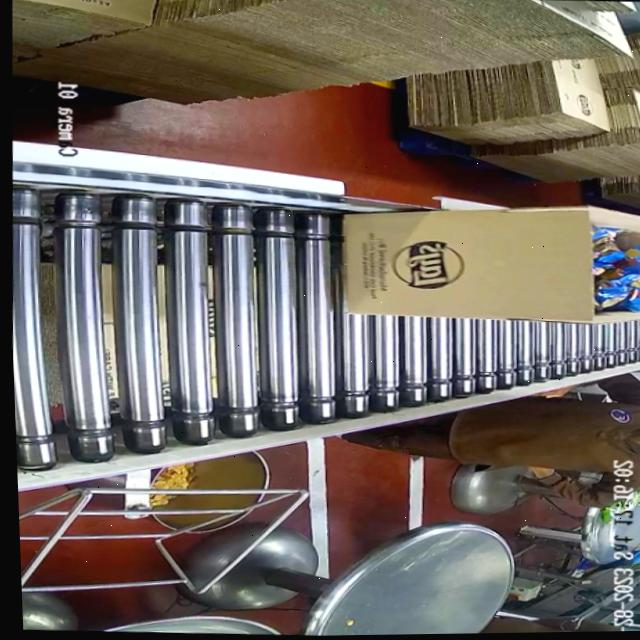PAPRIKA: (594, 220, 640, 314)
